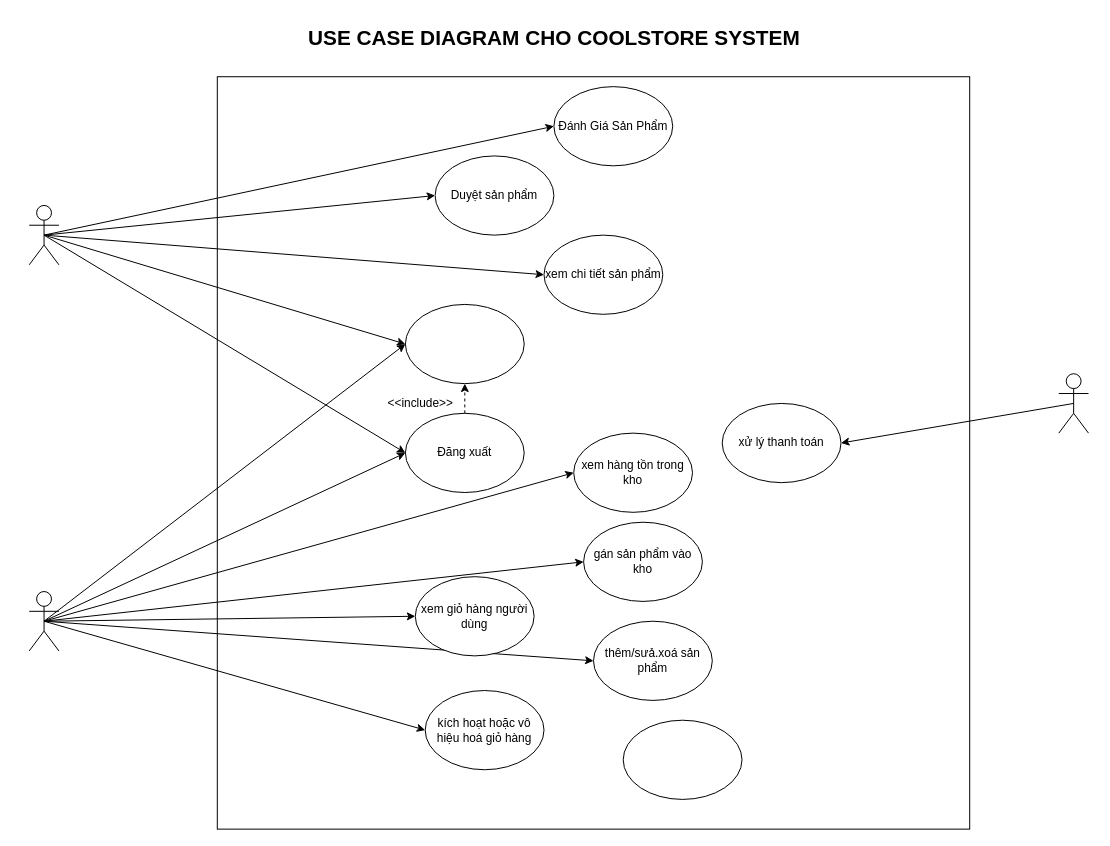
This 1110x846 diagram has some shape labels left out. The shapes that lost their labels are listed below. From the top down, each one's centre as x and y in pixels, then its label:
At (43,234): "Customer".
At (464,343): "Đăng nhập".
At (1073,403): "System".
At (43,621): "SysAdmin".
At (682,759): "thêm/sửa/xoá hàng trong kho".
